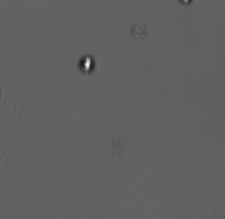Living Cell: (75, 53, 96, 75)
